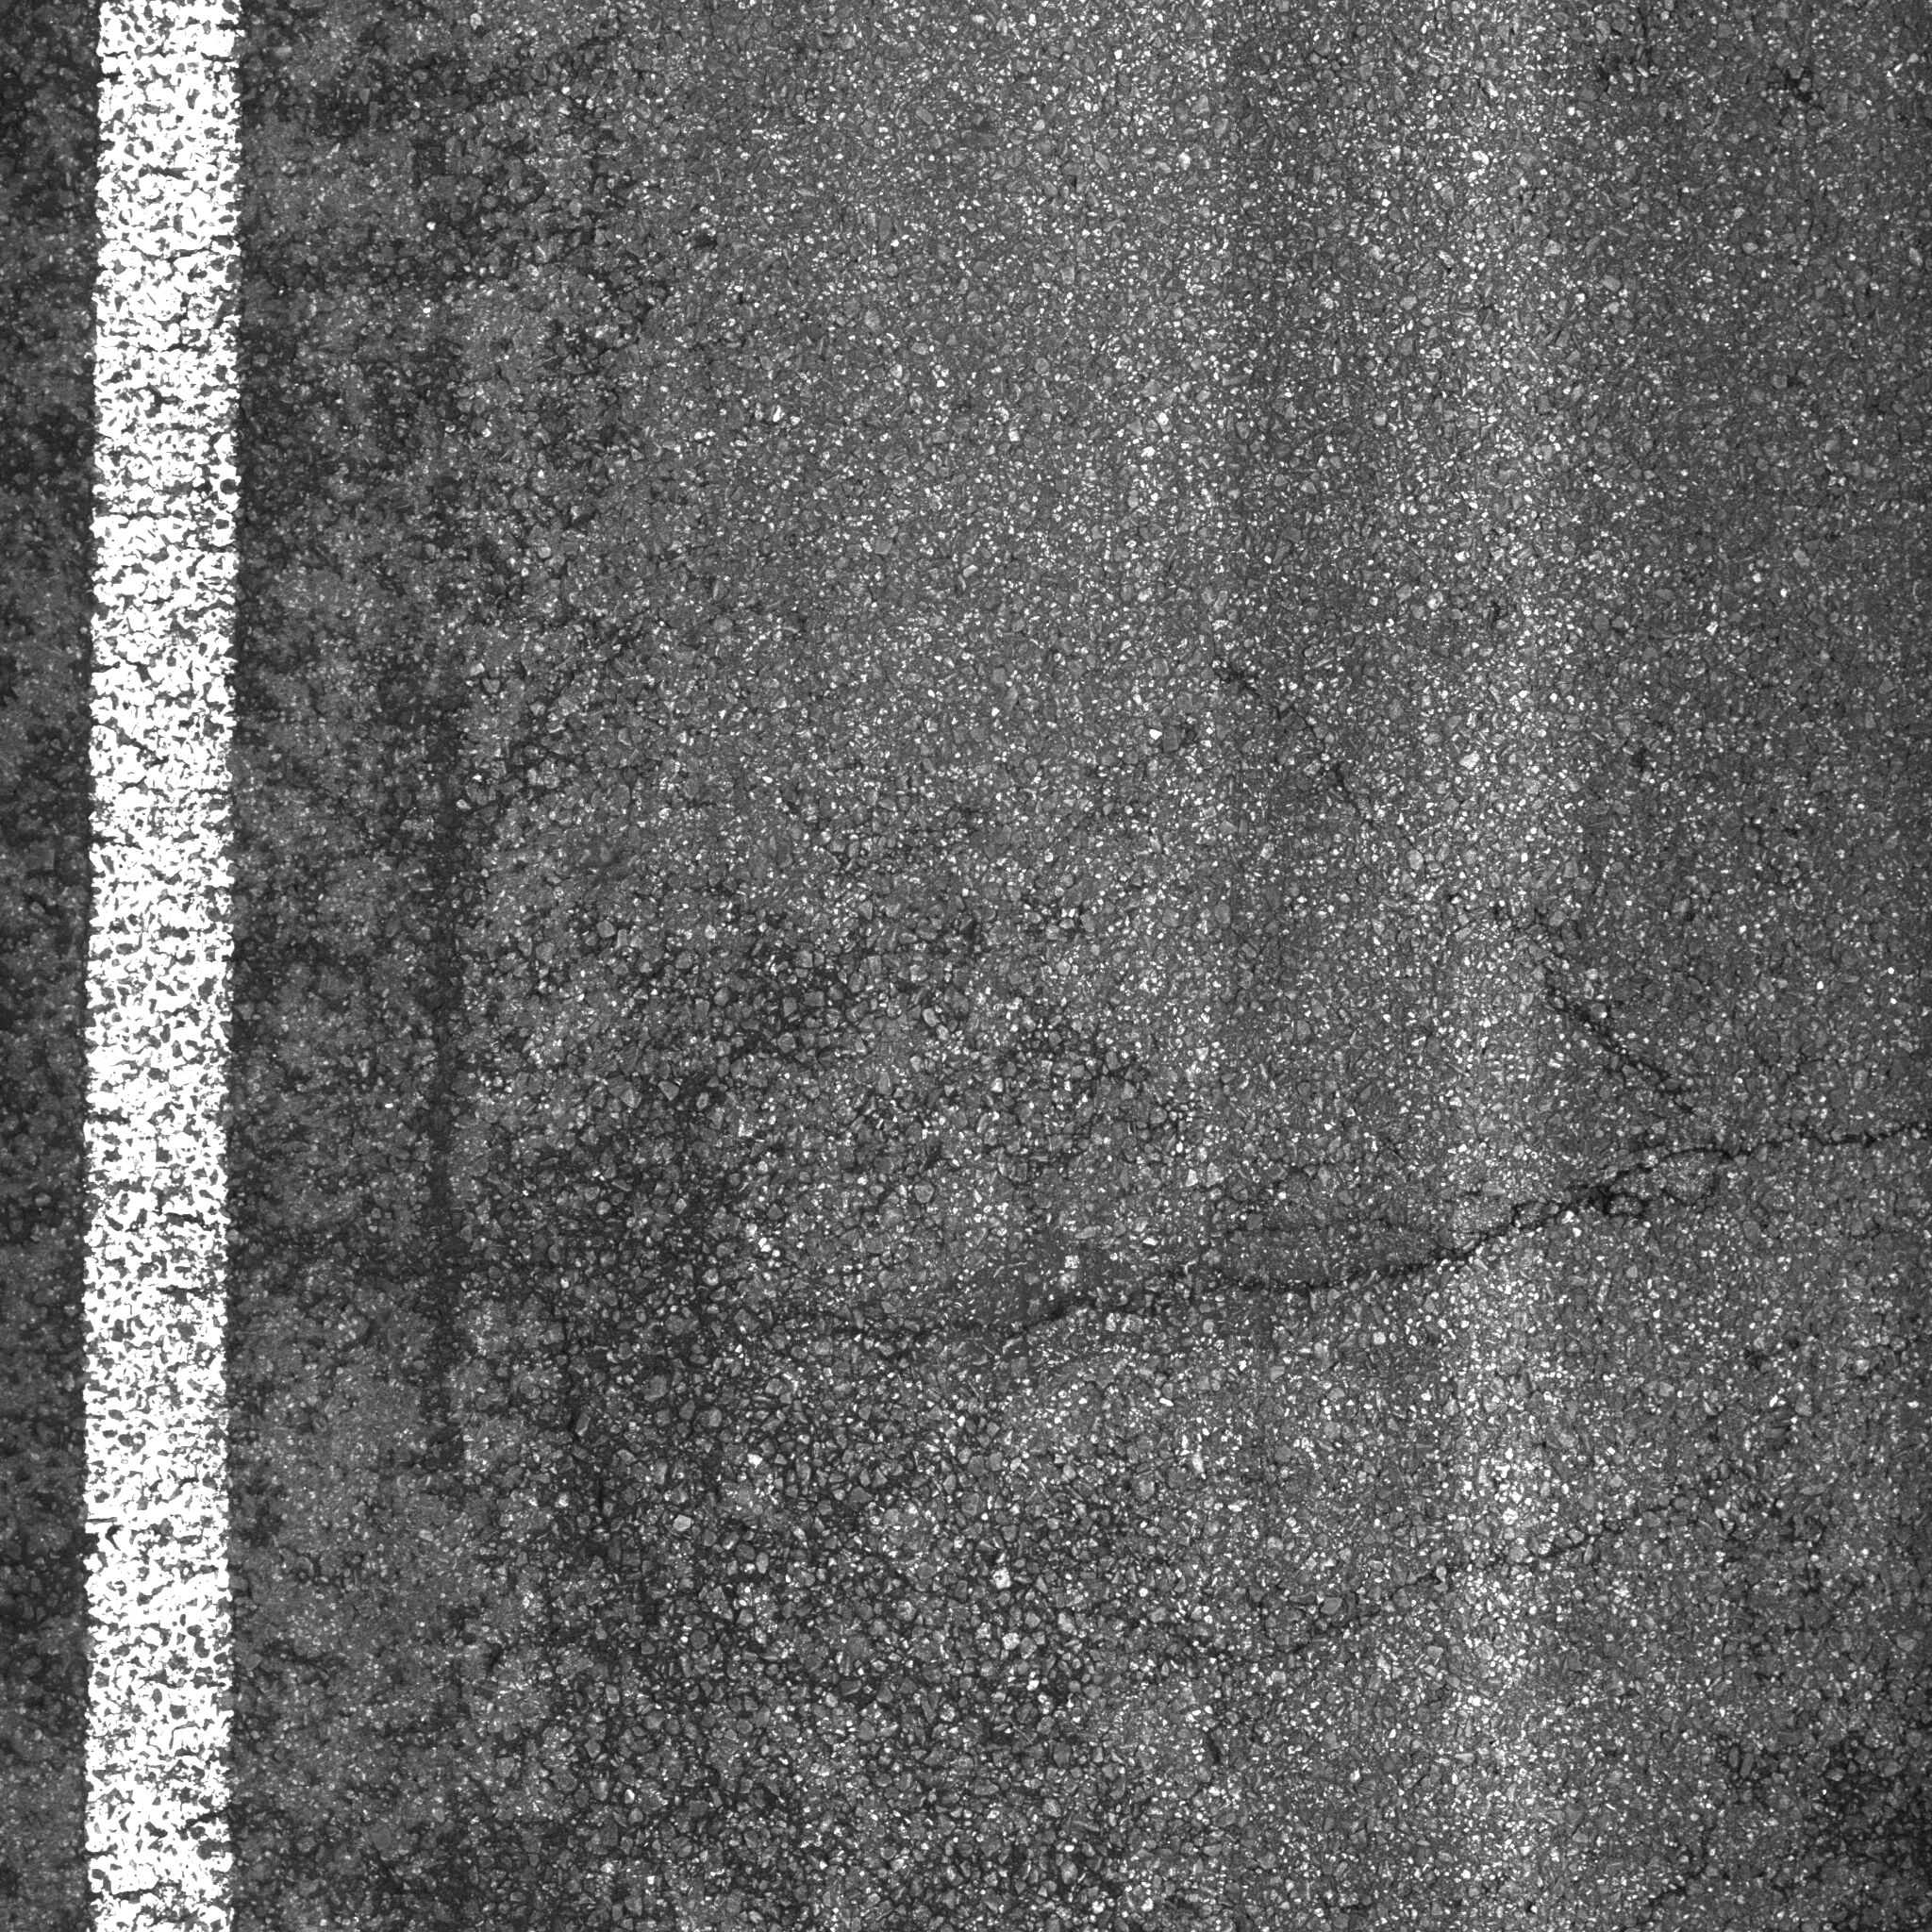transeverse: (793, 982, 1927, 1371), (1058, 1412, 1792, 1681), (1603, 1743, 1856, 1928)
